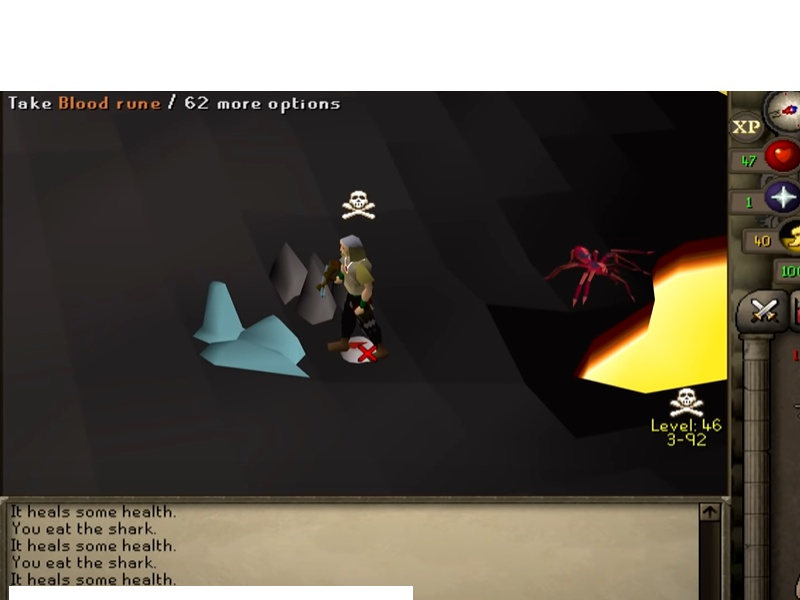rune: (186, 275, 313, 383)
